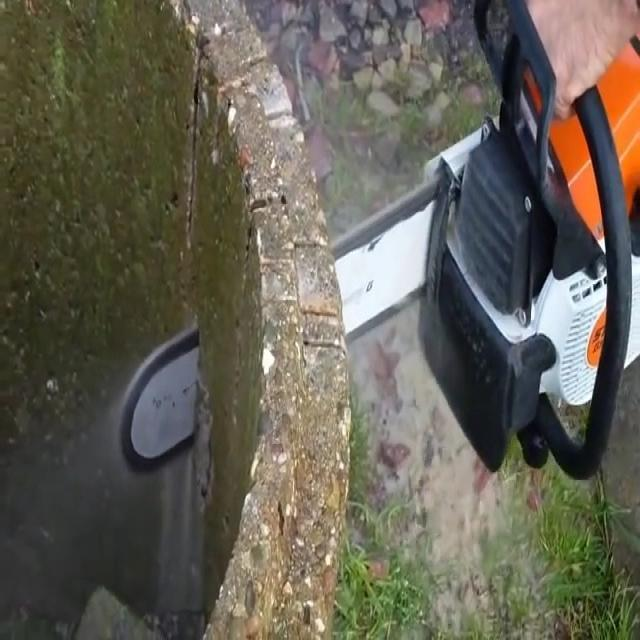Chainsaw: (71, 9, 640, 493)
